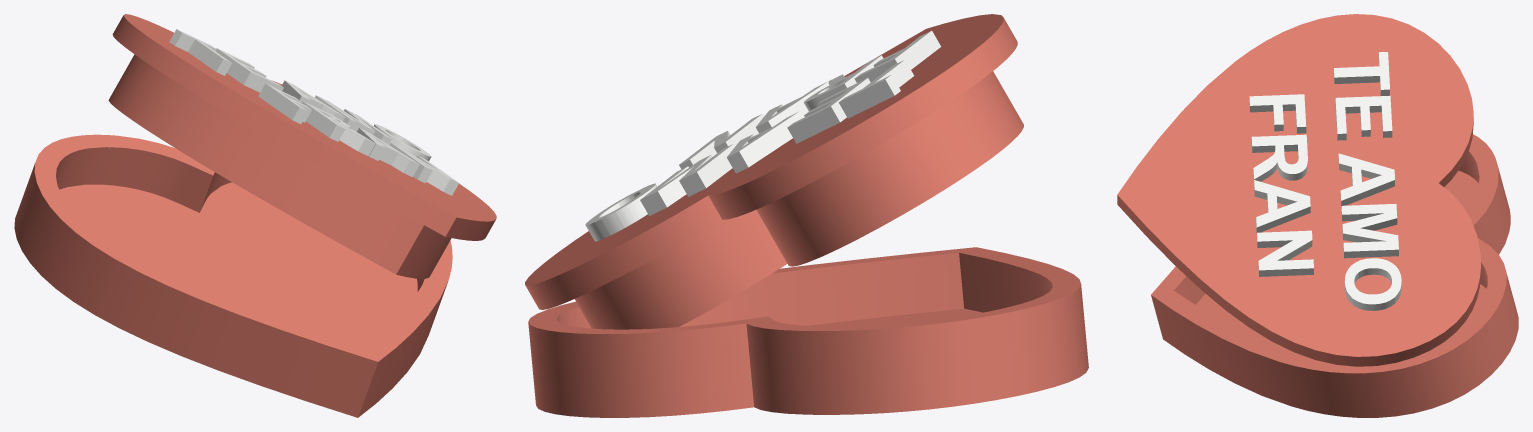
Rendered from corazon.glb.
The picture shows the model from 3 angles, left to right: view 1: azimuth 30°, elevation 25°; view 2: azimuth 150°, elevation 25°; view 3: azimuth 270°, elevation 25°; orthographic projection. The views are drawn at different scales.
Visible parts, largest first — view 1: Caja amor.001; view 2: Caja amor.001; view 3: Caja amor.001.
Boxes of the visible parts, left/top/right/bottom form: Caja amor.001: left=14, top=14, right=496, bottom=417; Caja amor.001: left=525, top=14, right=1088, bottom=417; Caja amor.001: left=1117, top=14, right=1518, bottom=417.
Size of the model in its own units: 6.44 by 4.92 by 6.2.
